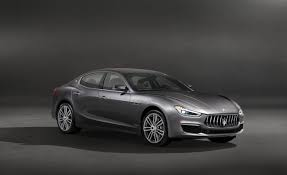car: (49, 64, 247, 146)
